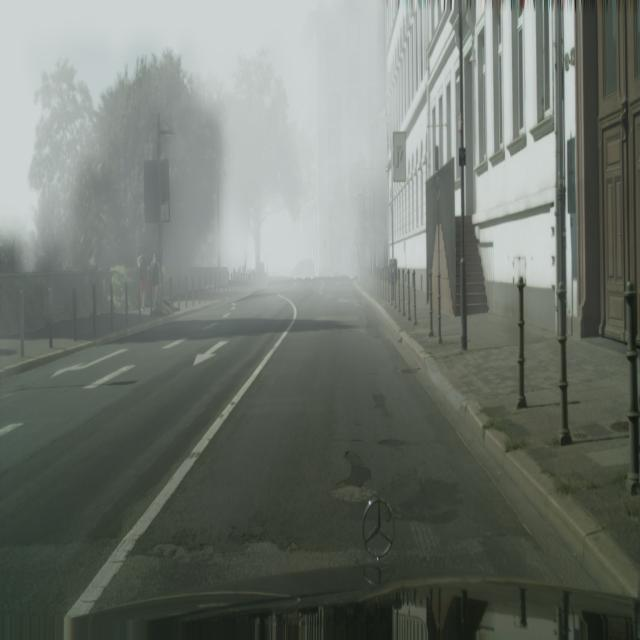person: (137, 249, 149, 316), (149, 252, 160, 312)
truck: (293, 258, 314, 280)
